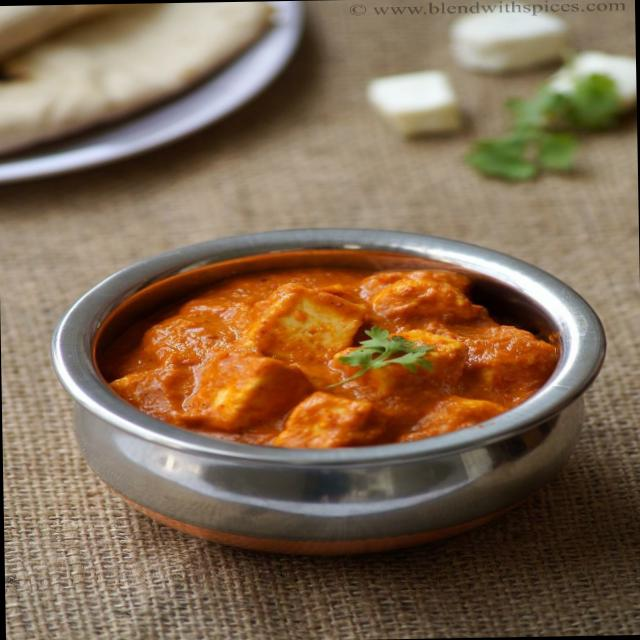ShahiPaneer: (100, 258, 557, 452)
